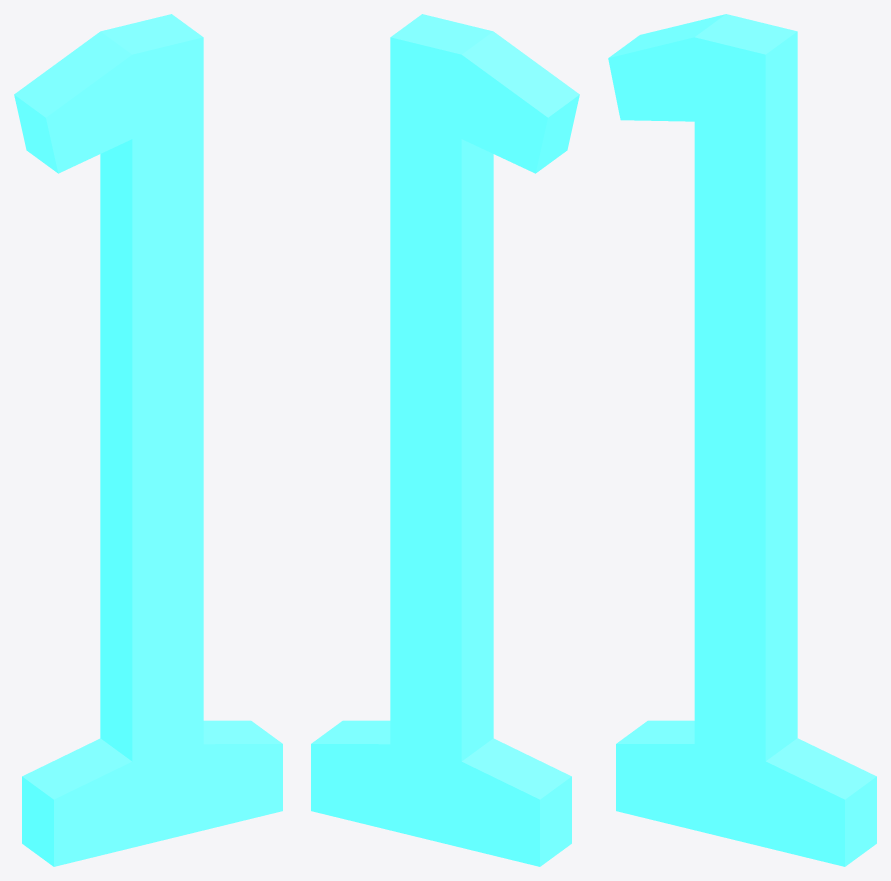
File: Number_1_LODGroup.fbx
3 views of the same model, side by side, from view 1: azimuth 30°, elevation 25°; view 2: azimuth 150°, elevation 25°; view 3: azimuth 330°, elevation 25° (orthographic).
Visible parts, largest first — view 1: Number 1_LOD0; view 2: Number 1_LOD0; view 3: Number 1_LOD0.
Part boxes in pixels (x1,y1,x2,y2): Number 1_LOD0: (14,14,282,866); Number 1_LOD0: (311,14,579,866); Number 1_LOD0: (608,14,876,866).
Size of what is drawn, in the model's own units: 6.25 by 20 by 1.45.
